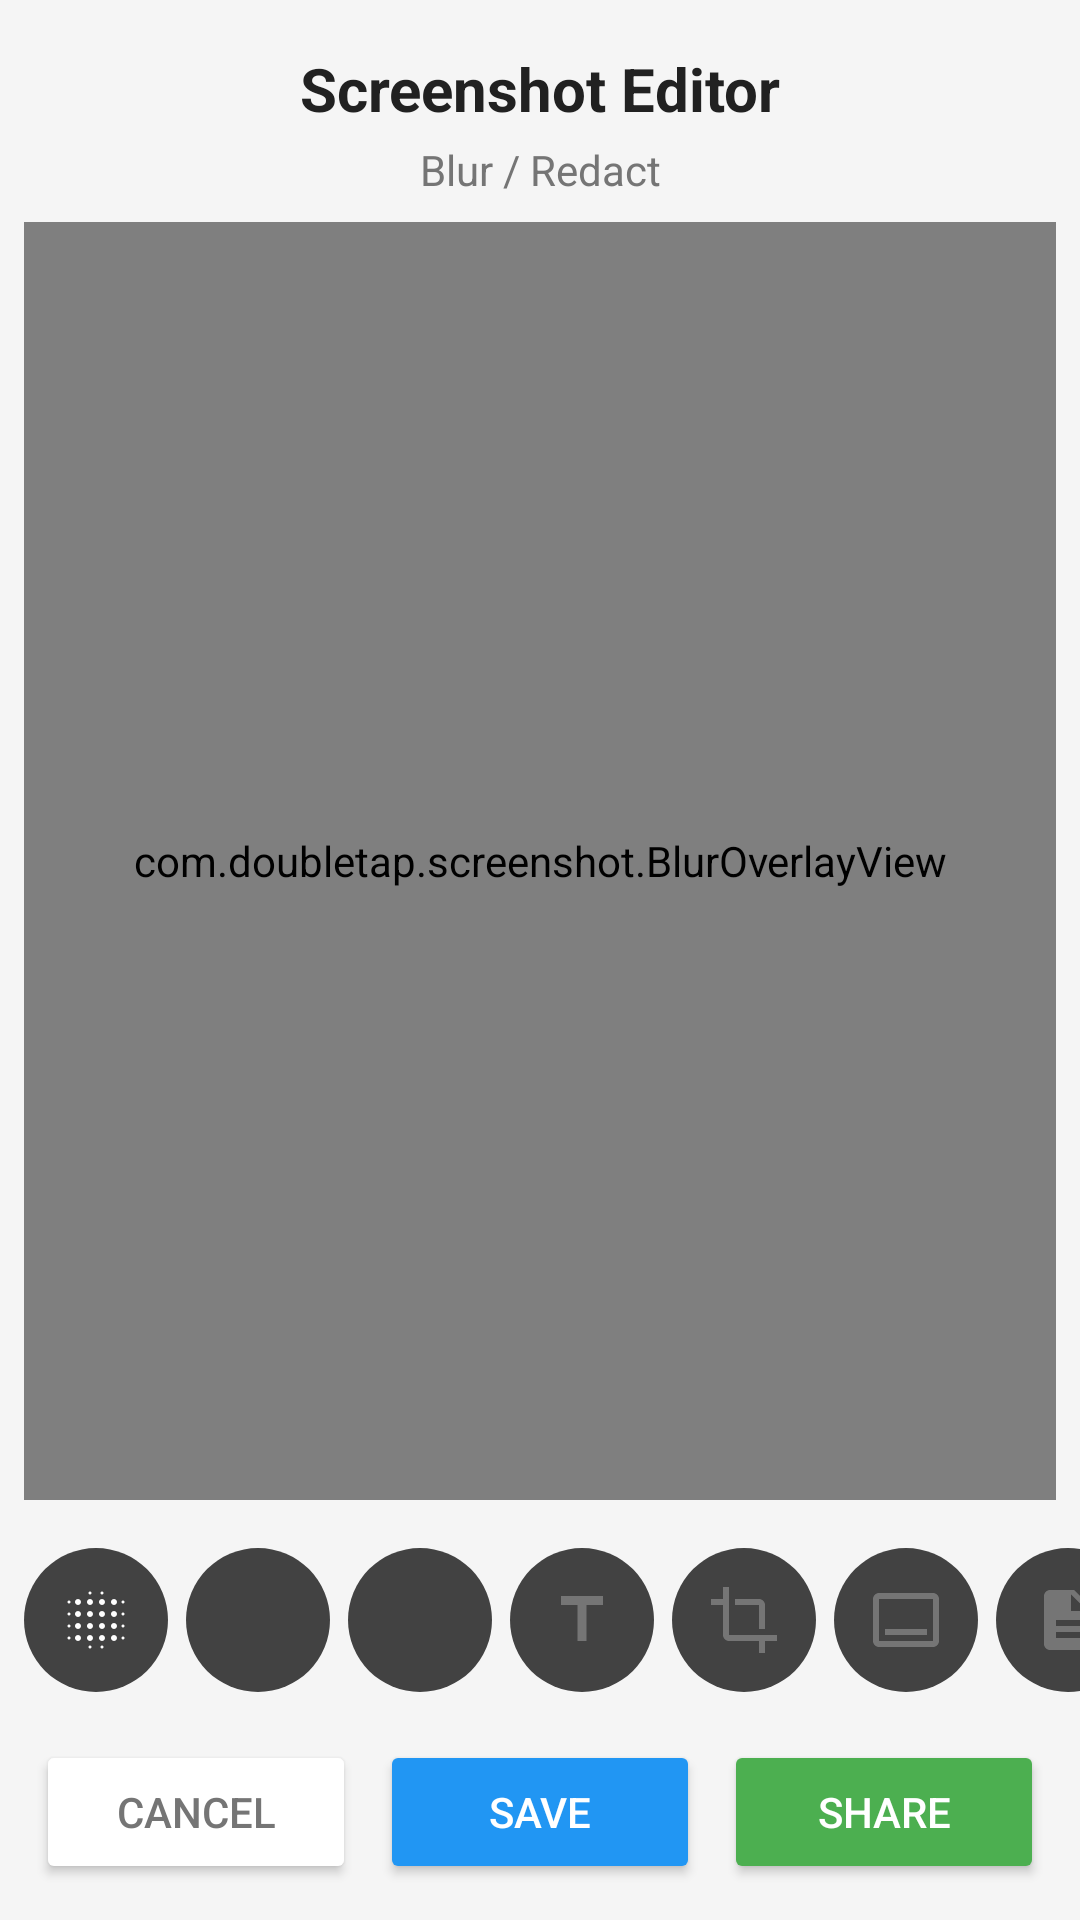

Icon click points for this 1080×1920 phone screenshot, format point (x, y):
Add Text: point (582, 1620)
Blur / Redact: point (96, 1620)
Crop: point (744, 1620)
Watermark: point (906, 1620)
